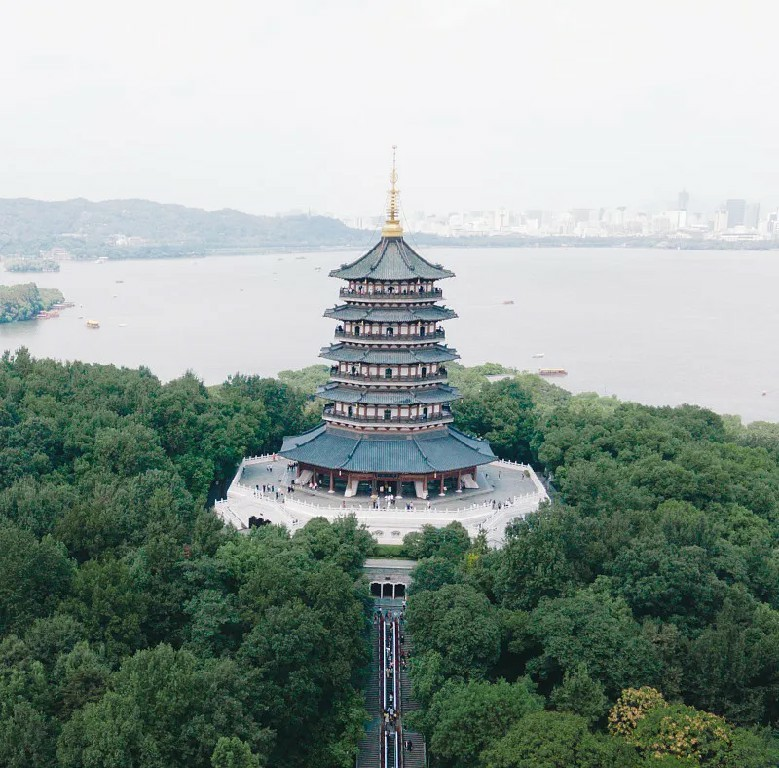Leifeng: (276, 141, 498, 509)
